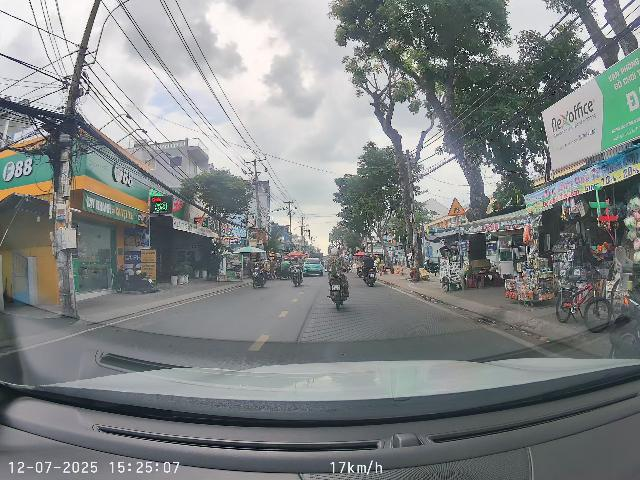225-chu-y-tre-em: (447, 197, 466, 216)
